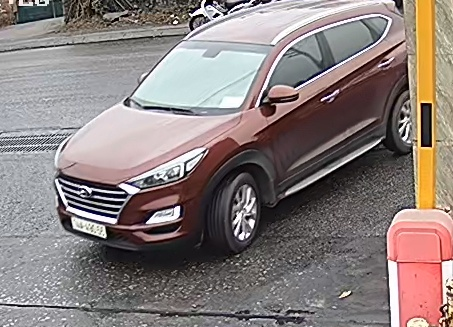vehicle plate: (68, 214, 110, 239)
